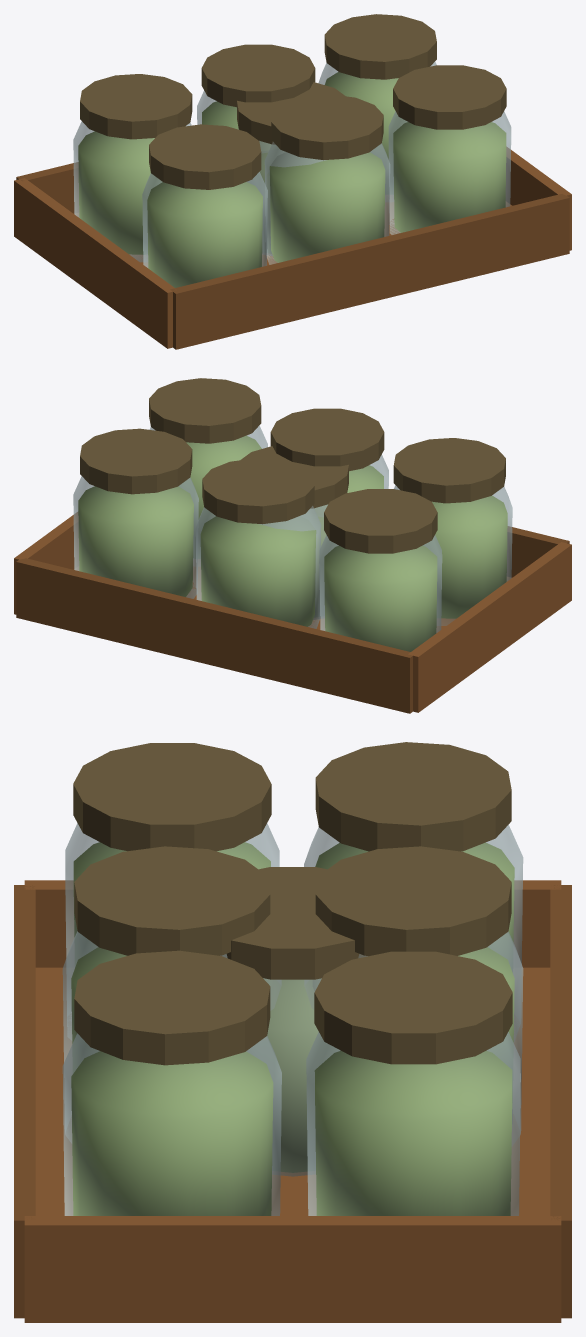
The model's file is Proc_Pickles.fbx.
3 views of the same model, one above another, from view 1: azimuth 30°, elevation 25°; view 2: azimuth 150°, elevation 25°; view 3: azimuth 270°, elevation 25° (orthographic). The views are drawn at different scales.
Visible parts, largest first — view 1: Proc_Pickles__Stack, Proc_Pickles; view 2: Proc_Pickles__Stack, Proc_Pickles; view 3: Proc_Pickles__Stack, Proc_Pickles, Proc_Pickles__Rotten.
Part boxes in pixels (x1,y1,x2,y2): Proc_Pickles__Stack: (14,14,571,349); Proc_Pickles: (237,82,345,255); Proc_Pickles__Stack: (14,378,571,713); Proc_Pickles: (240,446,348,619); Proc_Pickles__Stack: (14,742,571,1322); Proc_Pickles: (220,867,367,1176); Proc_Pickles__Rotten: (264,978,320,1176).
Size of the model in its own units: 0.3028 by 0.1075 by 0.2071.
